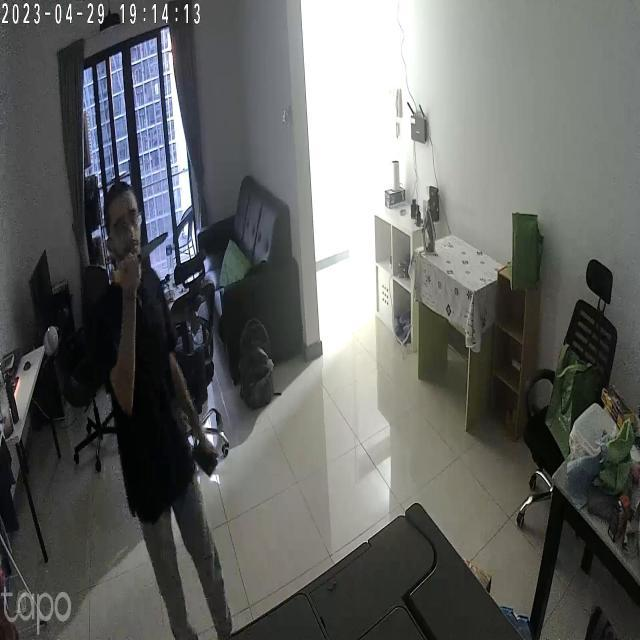Knife: (119, 226, 181, 272)
